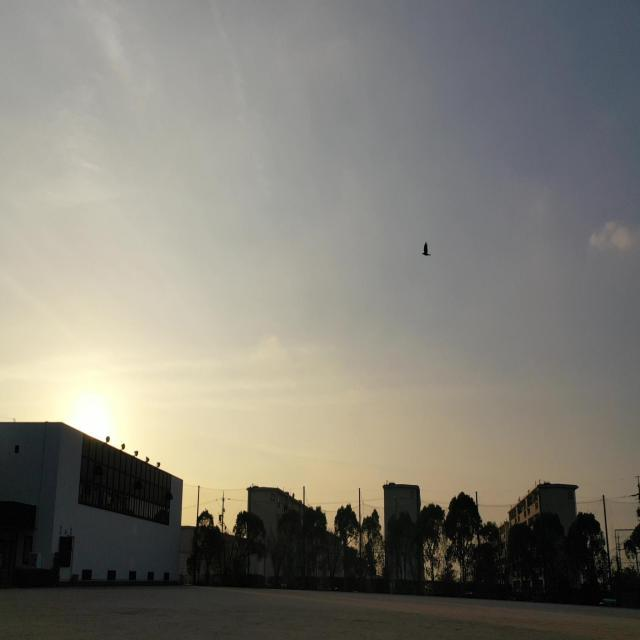Birds: (416, 238, 436, 260)
